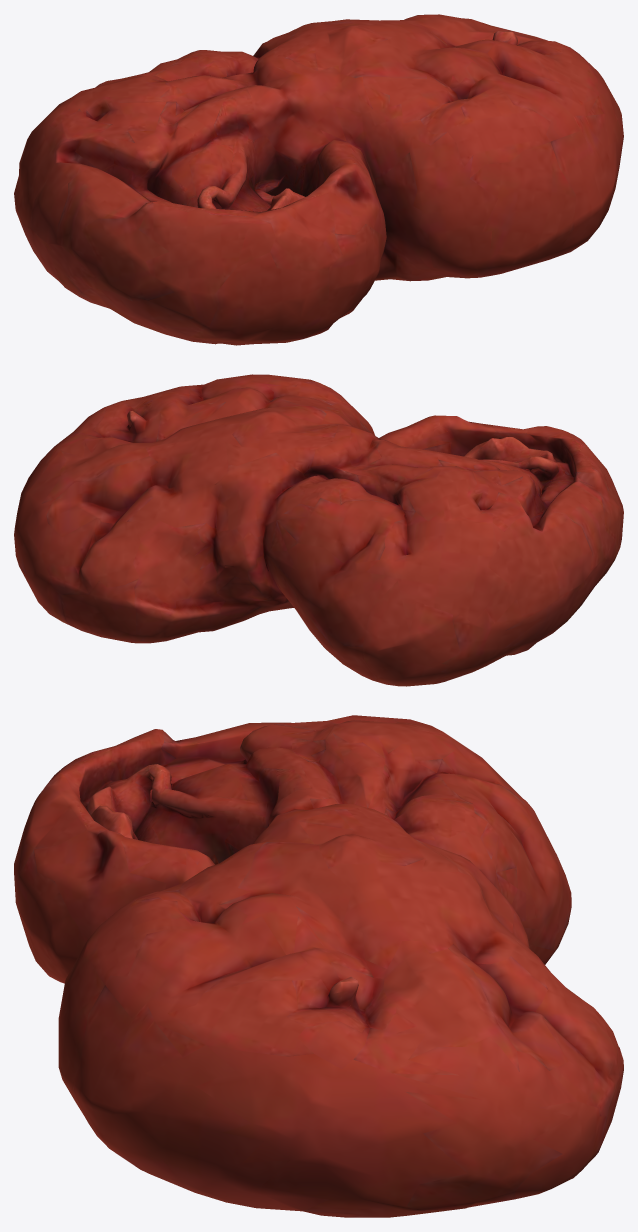
File: pancreas.glb
The picture shows the model from 3 angles, top to bottom: view 1: azimuth 30°, elevation 25°; view 2: azimuth 150°, elevation 25°; view 3: azimuth 270°, elevation 25°; orthographic projection. The views are drawn at different scales.
Parts seen in each view (by area): view 1: Mesh_0; view 2: Mesh_0; view 3: Mesh_0.
Boxes of the visible parts, x1,y1,x2,y2 form: Mesh_0: (14, 14, 623, 345); Mesh_0: (14, 374, 623, 686); Mesh_0: (14, 715, 623, 1217).
Size of the model in its own units: 1.9 by 0.6917 by 1.39.
1 material, 1 textured.
